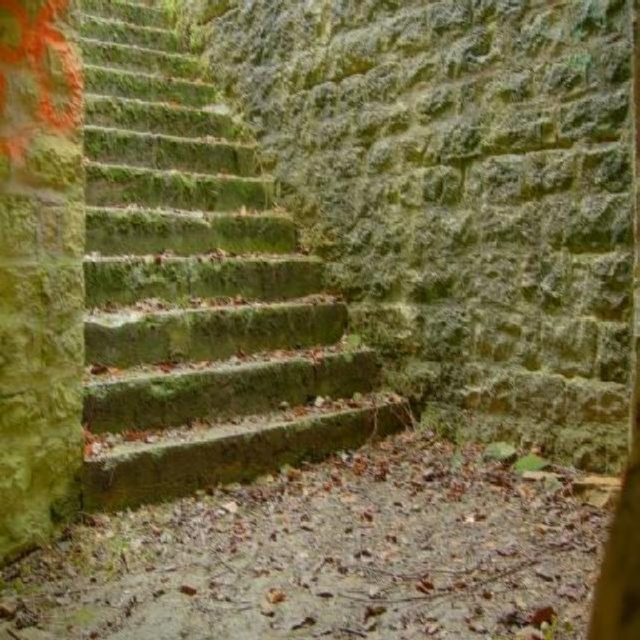stair: (80, 0, 415, 528)
